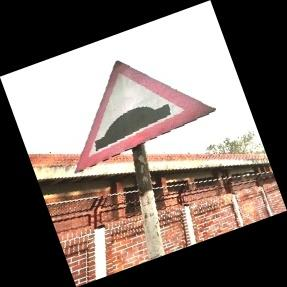Speed-breaker: (74, 59, 214, 172)
